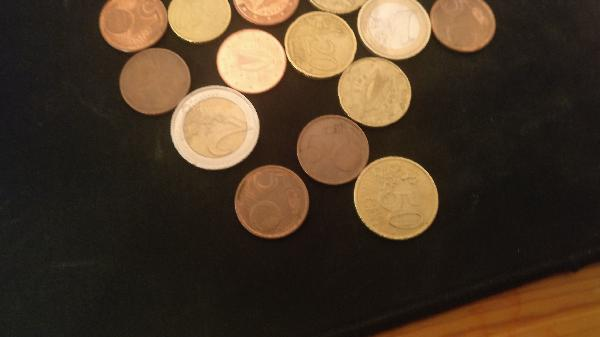Fifty Cent: (356, 155, 440, 237)
Five Cent: (117, 46, 191, 115), (236, 167, 308, 235), (300, 113, 369, 182), (215, 29, 287, 87), (429, 1, 496, 52), (102, 1, 170, 50), (233, 1, 302, 25)
One Euro: (356, 1, 433, 58)
Ten Cent: (166, 1, 228, 44)
Twenty Cent: (341, 57, 411, 125), (287, 11, 351, 75)
Two Euro: (171, 83, 260, 168)
